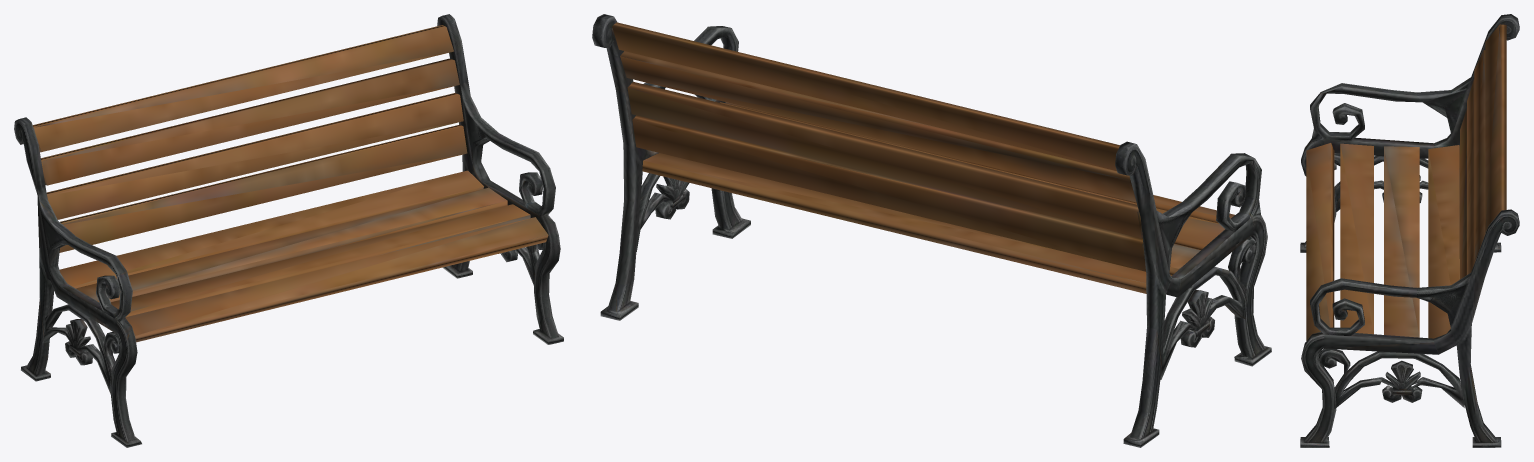
The model's file is bench.glb.
3 renders of one model, left to right at view 1: azimuth 30°, elevation 25°; view 2: azimuth 150°, elevation 25°; view 3: azimuth 270°, elevation 25°, orthographic. The views are drawn at different scales.
Bounding box in the file's own units: 0.9487 × 0.5117 × 0.4355.
Materials: 1 (1 with a texture image).
